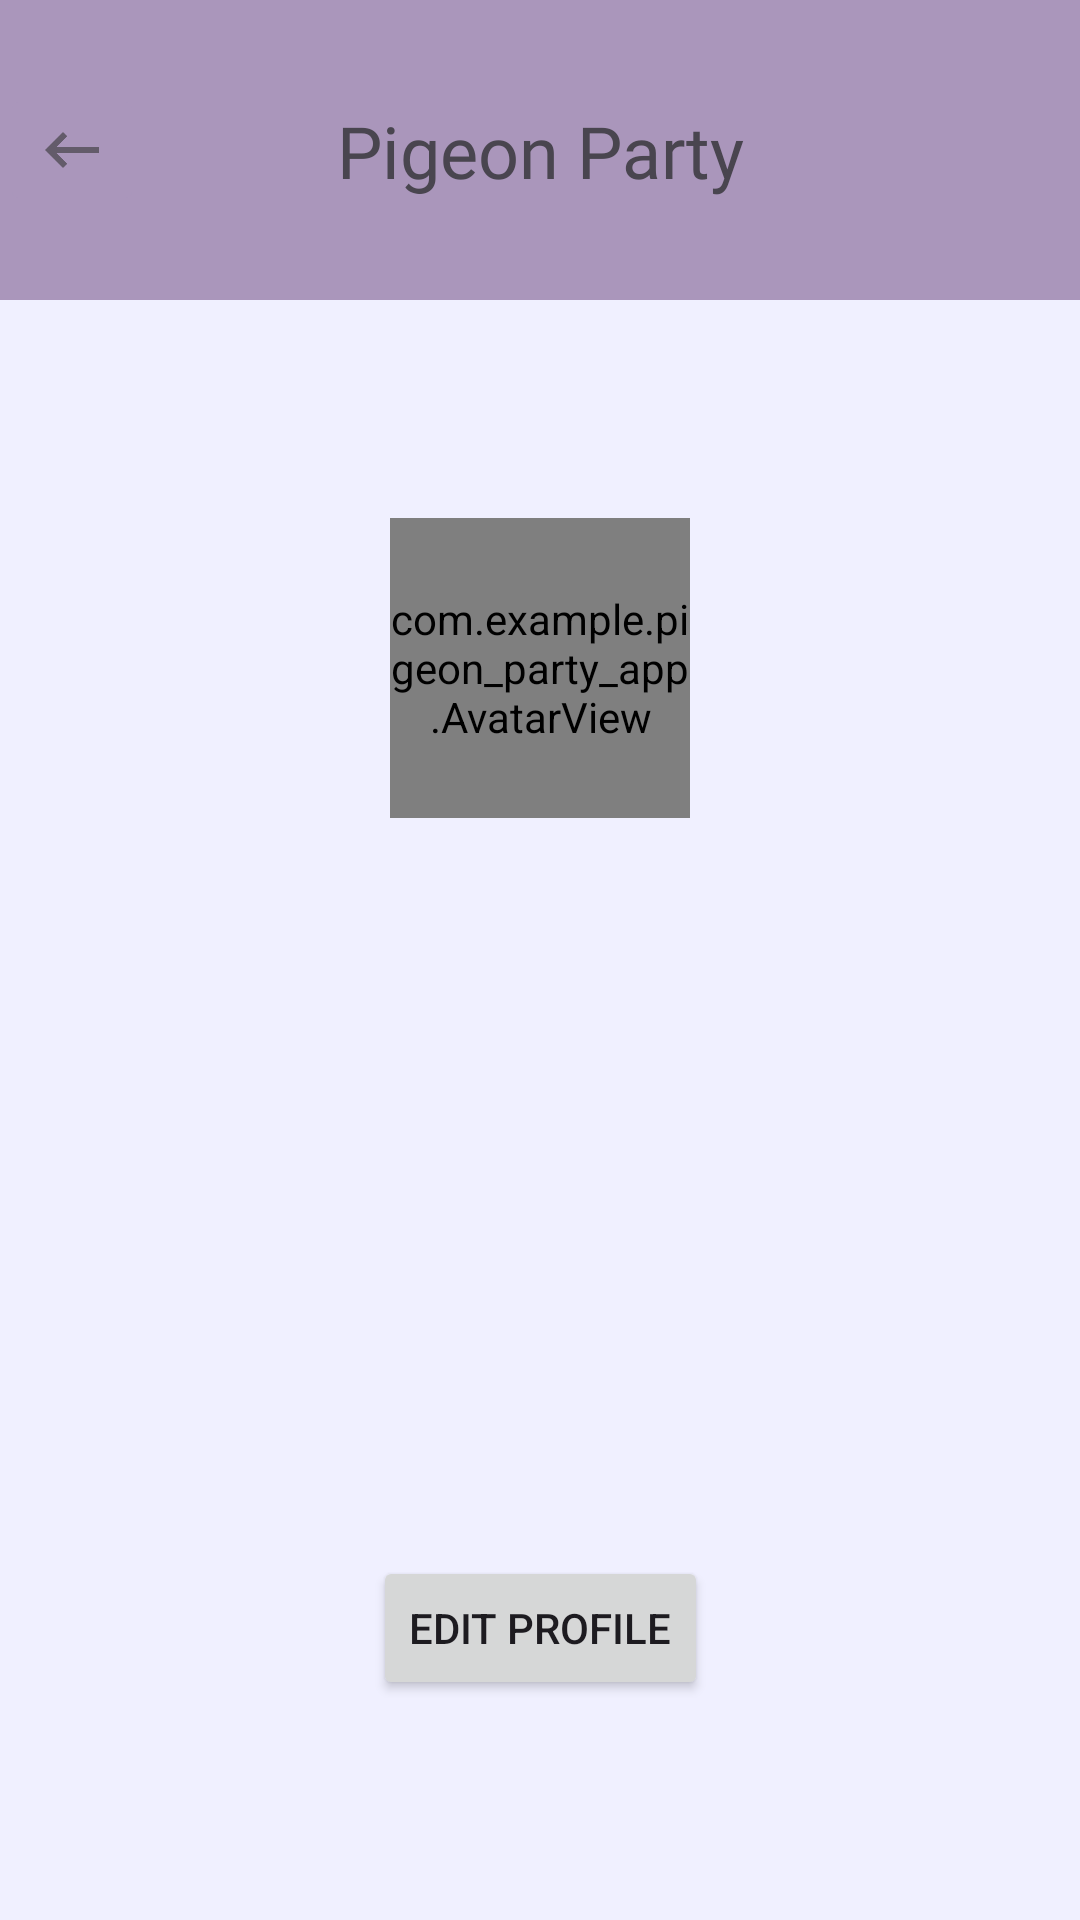

Screen size 1080 × 1920. Icon name, then its box in pixels as region(x1, y1, x2, y2):
back: region(45, 132, 99, 168)
